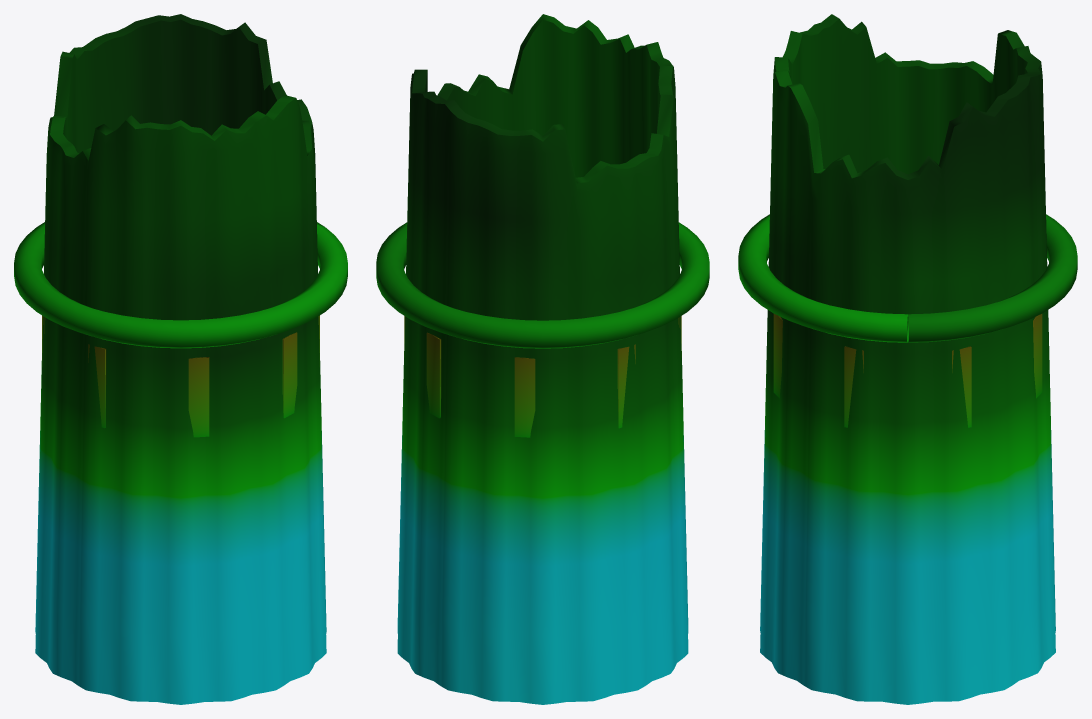
The model's file is iskarra_tower_small_broken.glb.
3 views of the same model, side by side, from view 1: azimuth 30°, elevation 25°; view 2: azimuth 150°, elevation 25°; view 3: azimuth 270°, elevation 25° (orthographic).
Parts seen in each view (by area): view 1: iskarra_tower_small_broken; view 2: iskarra_tower_small_broken; view 3: iskarra_tower_small_broken.
Part boxes in pixels (x1=…): iskarra_tower_small_broken: x1=14, y1=14, x2=347, y2=704; iskarra_tower_small_broken: x1=376, y1=14, x2=709, y2=704; iskarra_tower_small_broken: x1=738, y1=14, x2=1077, y2=704.
Size of what is drawn, in the model's own units: 6.89 by 13.08 by 6.89.
